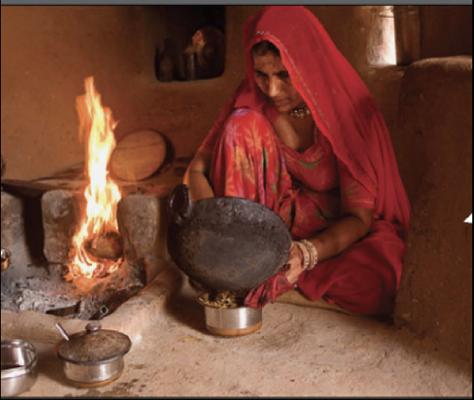person: (182, 3, 414, 324)
